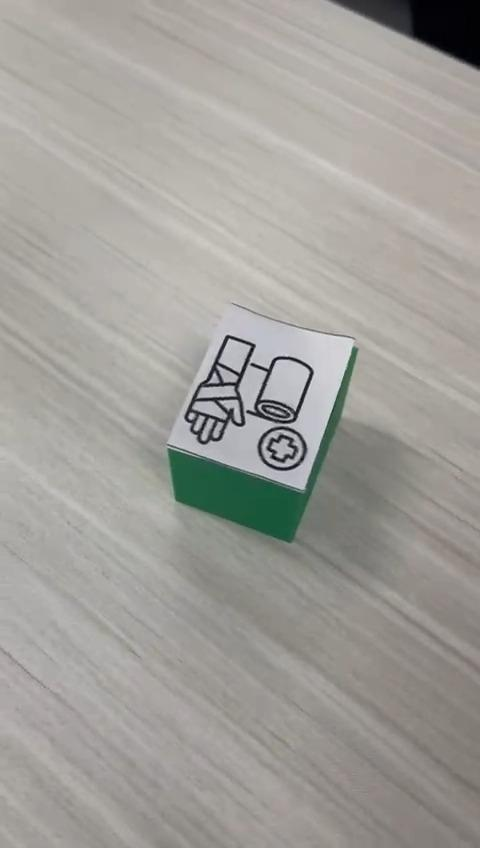Bandages: (165, 302, 359, 542)
